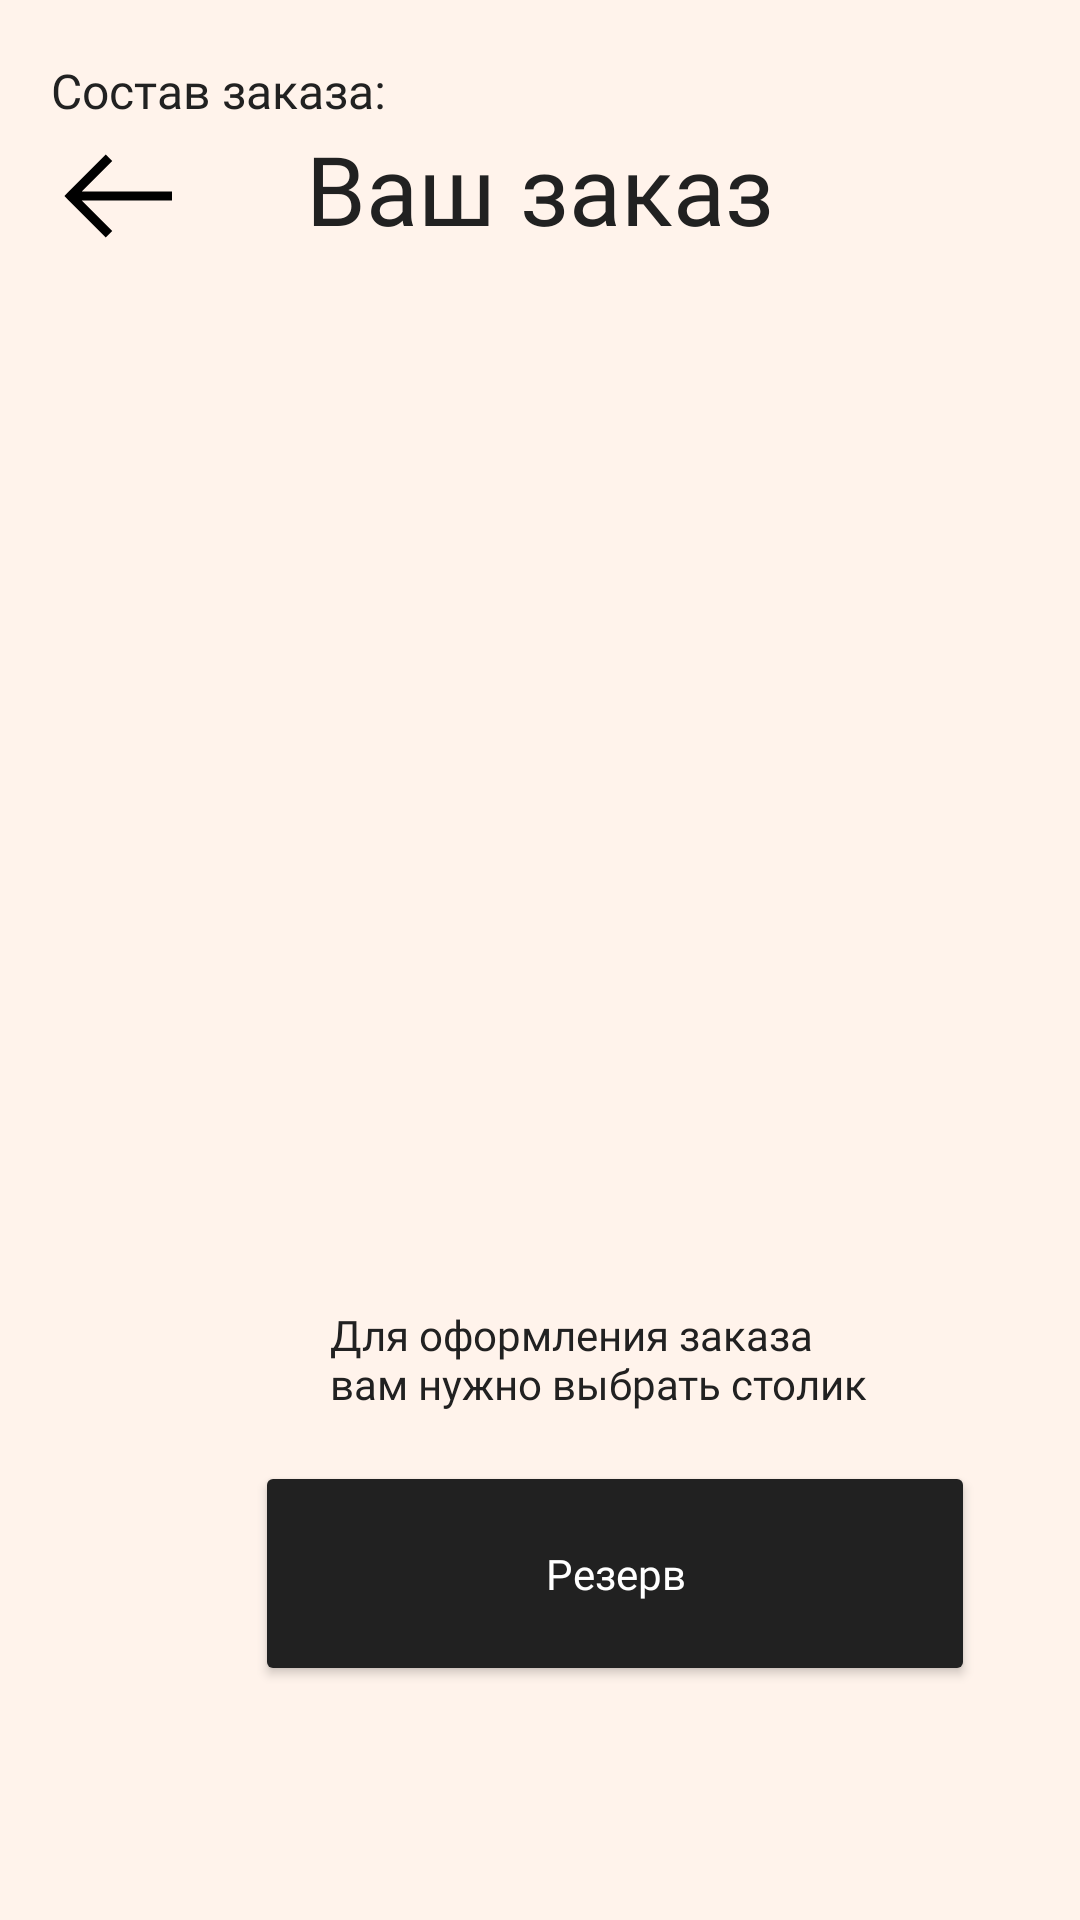

Named icons in this screenshot (1080 × 1920) and their bounding boxes, [x1, y1, x2, y2]:
back: [64, 154, 172, 238]
